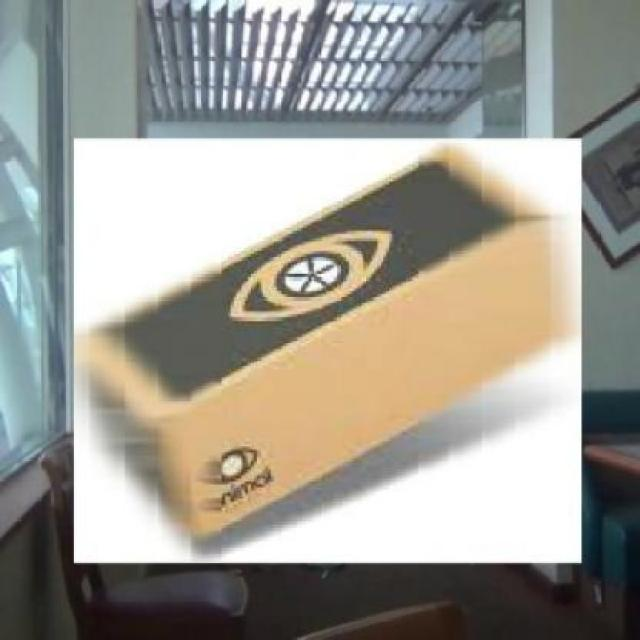box: (66, 132, 591, 572)
